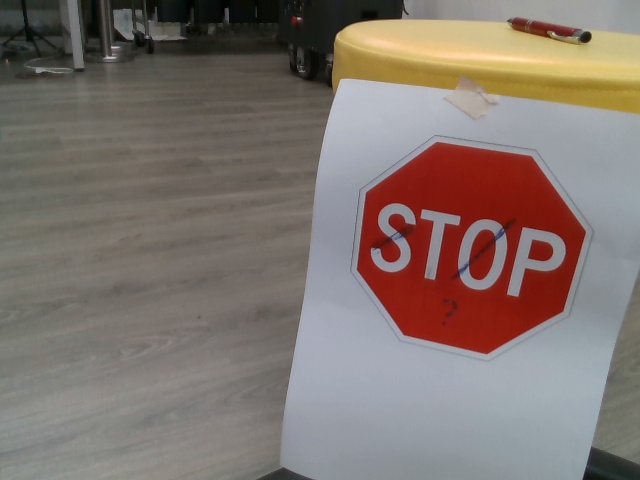stop: (347, 136, 597, 361)
